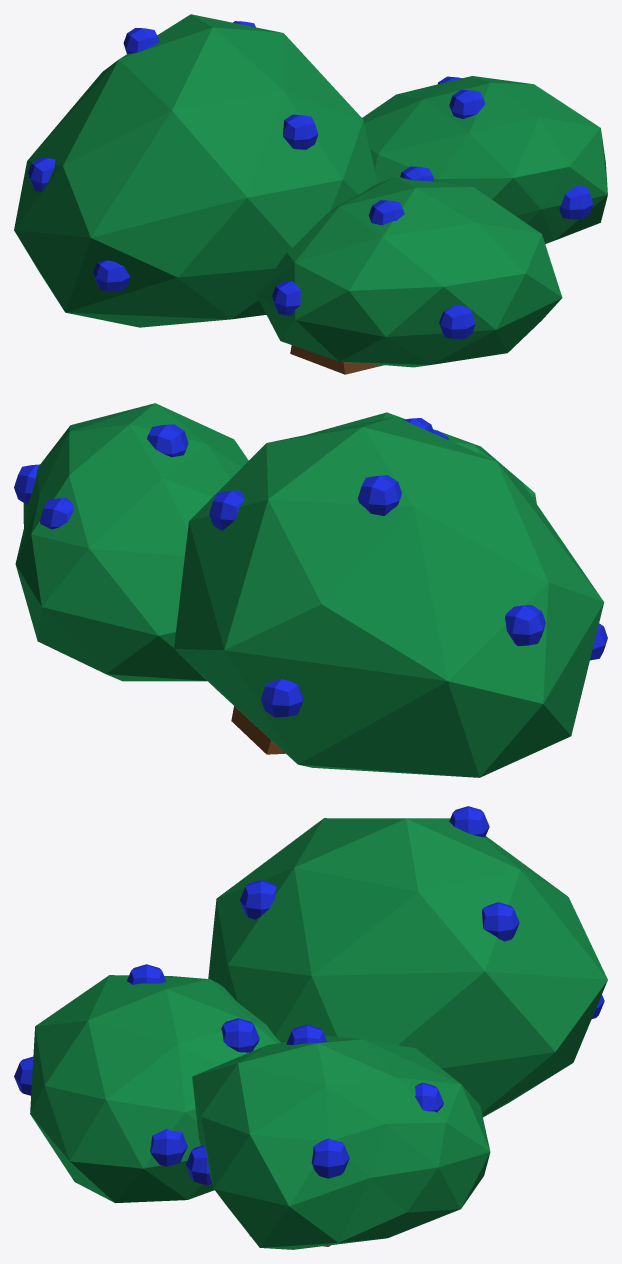
File: Busch 2.glb
The picture shows the model from 3 angles, top to bottom: view 1: azimuth 30°, elevation 25°; view 2: azimuth 150°, elevation 25°; view 3: azimuth 270°, elevation 25°; orthographic projection. The views are drawn at different scales.
Parts seen in each view (by area): view 1: Cylinder; view 2: Cylinder; view 3: Cylinder.
Part boxes in pixels (box(x1,y1,x2,y2)): Cylinder: box(14, 14, 607, 374); Cylinder: box(14, 403, 607, 777); Cylinder: box(14, 806, 607, 1249).
Bounding box in the file's own units: 4.37 × 2.51 × 3.88.
